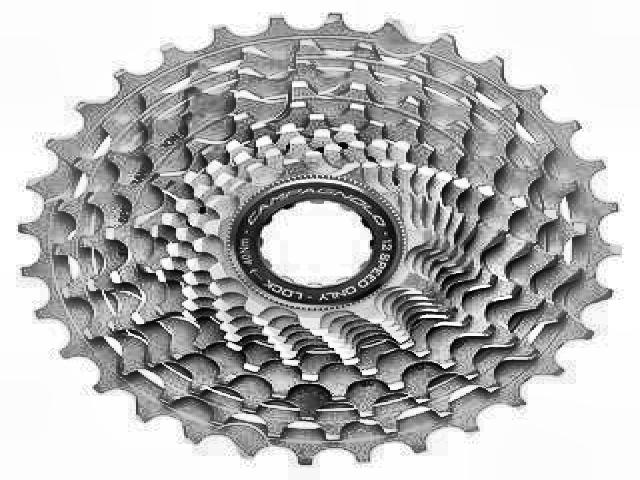cassette: (20, 11, 618, 466)
